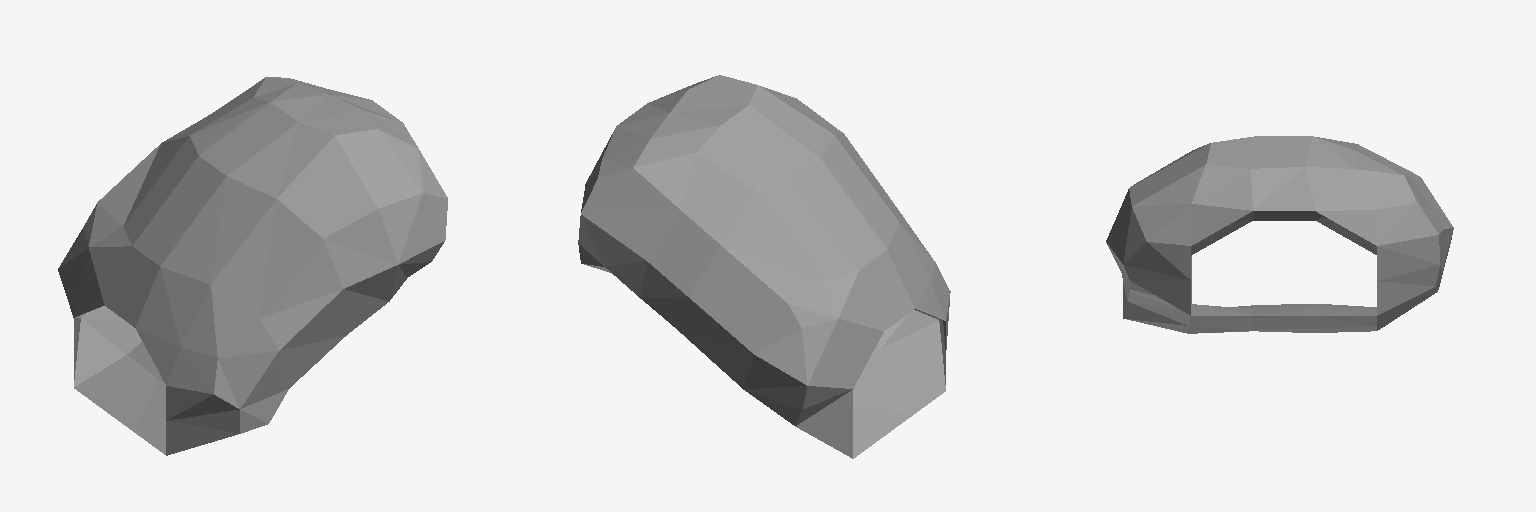
Rendered from Mesh_CavePack_Slope_Short_lod0.obj.
3 views of the same model, side by side, from view 1: azimuth 30°, elevation 25°; view 2: azimuth 150°, elevation 25°; view 3: azimuth 270°, elevation 25° (orthographic).
Visible parts, largest first — view 1: Plane; view 2: Plane; view 3: Plane.
Boxes of the visible parts, box(x1,y1,x2,y2) form: Plane: box(58, 77, 447, 455); Plane: box(578, 75, 950, 458); Plane: box(1106, 136, 1453, 333).
Bounding box in the file's own units: 16 × 15.41 × 18.01.